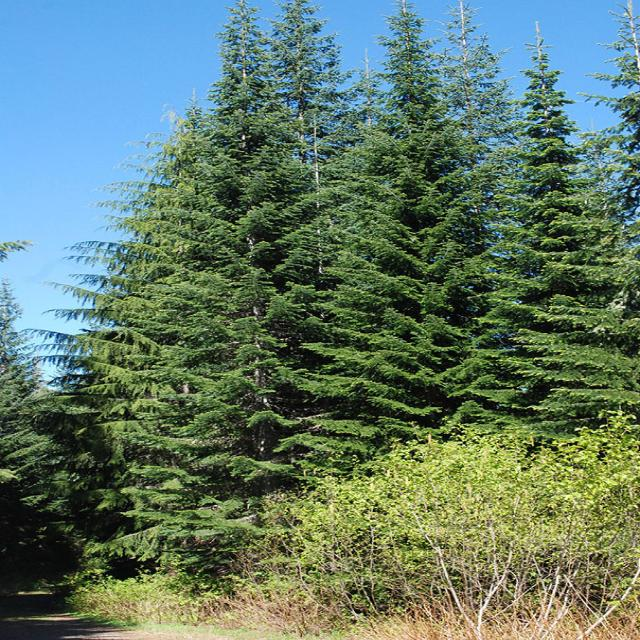Abies: (316, 20, 509, 506), (170, 58, 328, 603), (469, 21, 628, 534)
